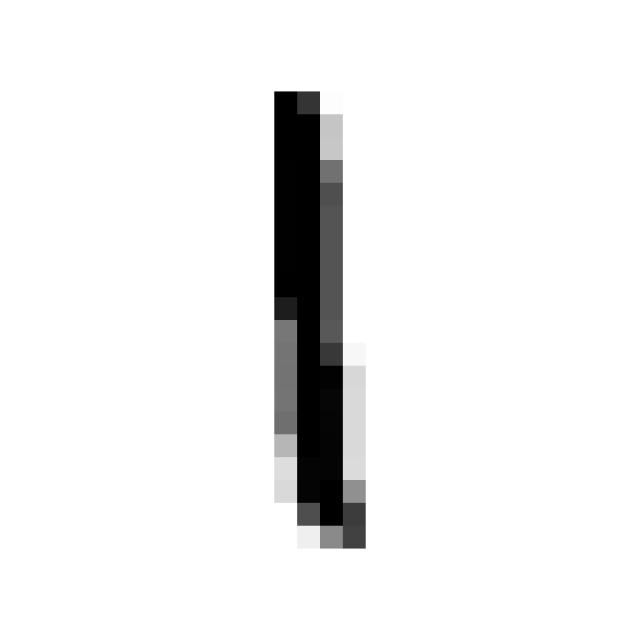1 -one-: (240, 64, 395, 569)
